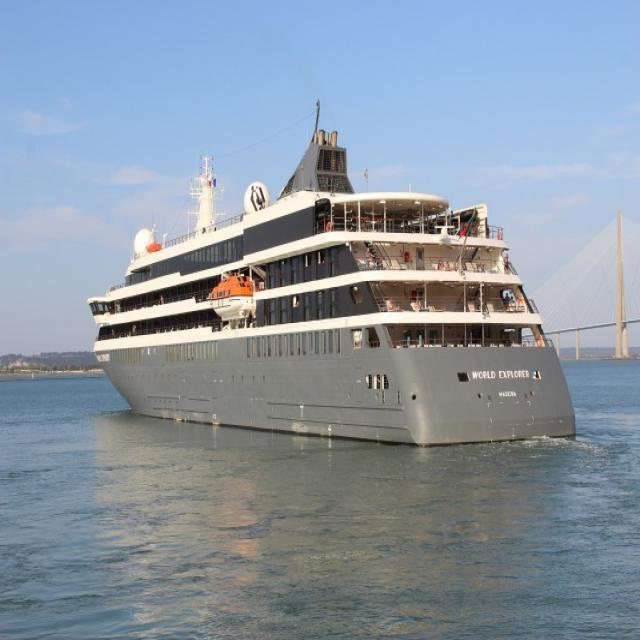cruises: (83, 108, 589, 463)
